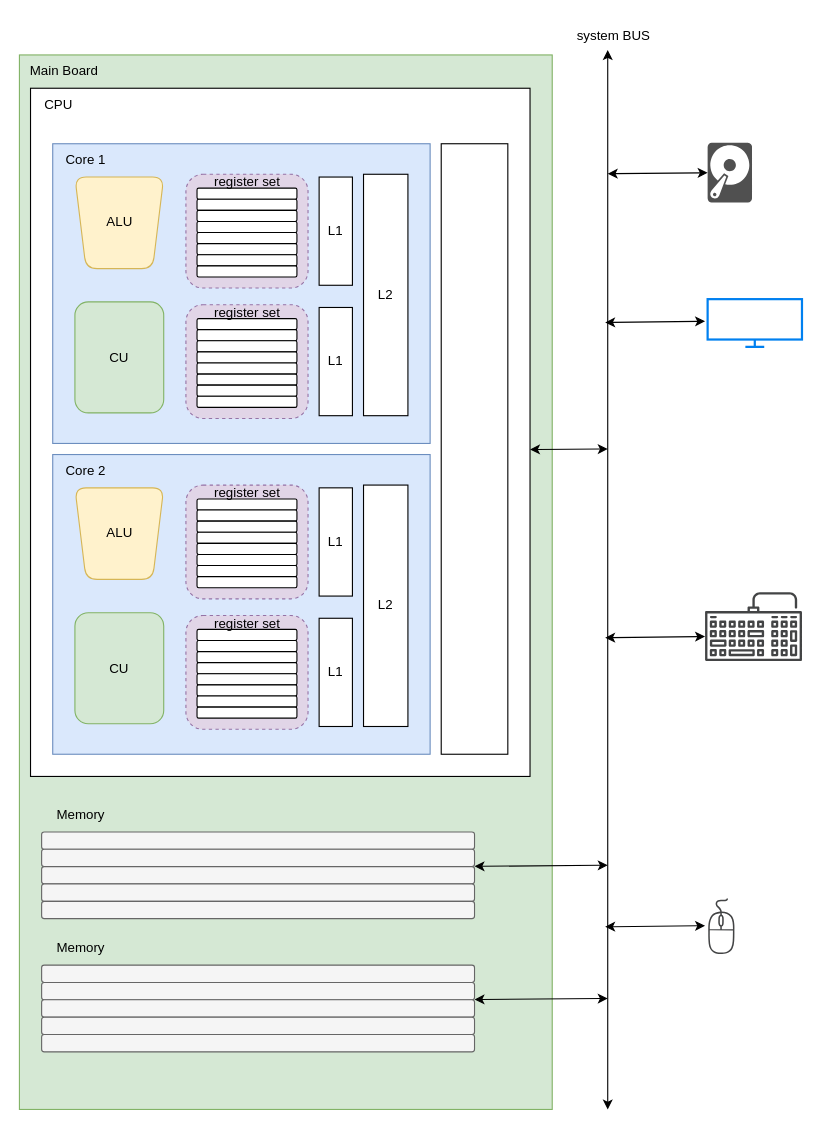
Some shapes in this 823 by 1139 pixel diagram are drawn without their labels. Each missing label, with the box of its shape:
Disk: (707, 142, 751, 202)
display: (706, 297, 803, 347)
keyboard: (705, 592, 801, 660)
Last Level Cache (LLC): (440, 143, 508, 754)
mouse: (707, 898, 734, 953)
